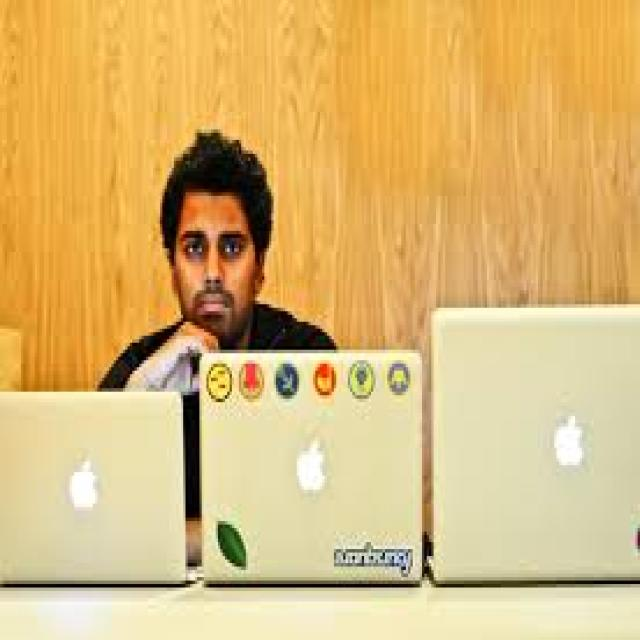LAPTOP: (429, 304, 638, 581), (202, 353, 420, 581), (0, 392, 183, 581)
PERSON: (97, 129, 334, 388)
